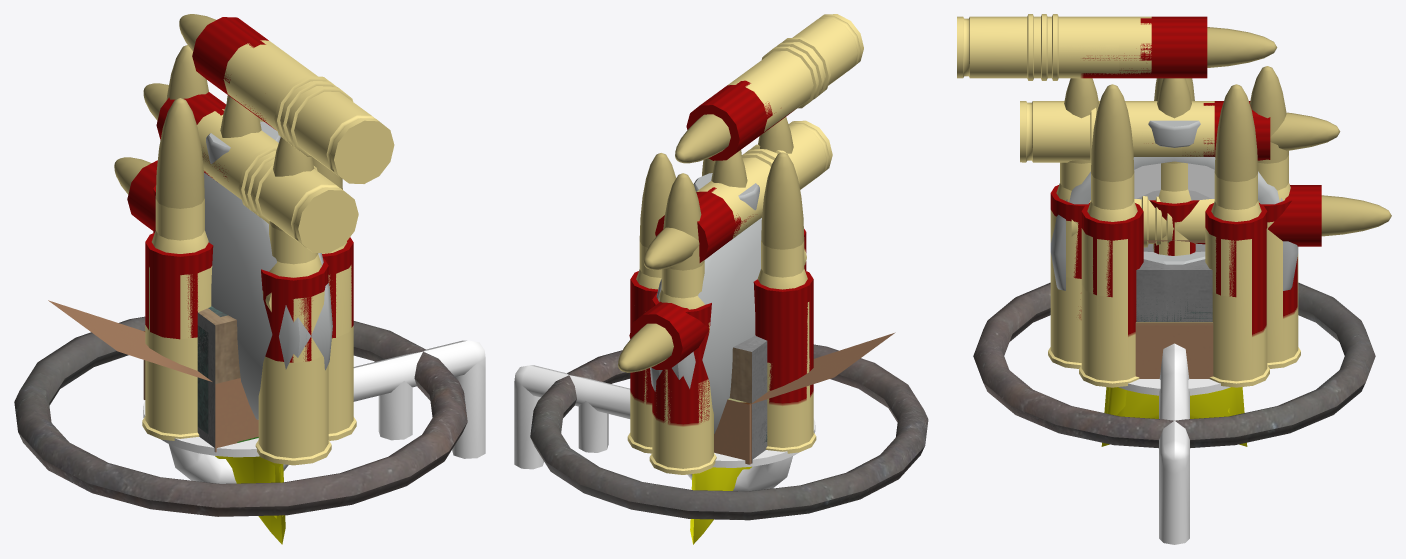
Rendered from GameAssetsPack1.fbx.
3 views of the same model, side by side, from view 1: azimuth 30°, elevation 25°; view 2: azimuth 150°, elevation 25°; view 3: azimuth 270°, elevation 25° (orthographic). The views are drawn at different scales.
Parts seen in each view (by area): view 1: KeyRing, BulletCFloat, StopwatchGlass, BulletCTriple, Key, BulletBTriple, BulletBLine, ShotgunShellFloat, BulletBFloat, ShotgunShellTriple, BulletCLine, BulletAFloat (+11 smaller); view 2: KeyRing, BulletCFloat, ShotgunShellTriple, ShotgunShellFloat, BulletCTriple, StopwatchGlass, Key, ShotgunShellLine, BulletCLine, BulletBFloat, AmmoPack16, BulletAFloat (+6 smaller); view 3: BulletCTriple, BulletCFloat, KeyRing, ShotgunShellFloat, BulletCLine, ShotgunShellTriple, BulletBFloat, StopWatch, Key, BulletBTriple, CrateMetal, AmmoPack16 (+9 smaller).
Boxes of the visible parts, x1,y1,x2,y2 form: KeyRing: (14,316,467,516); BulletCFloat: (114,14,394,311); StopwatchGlass: (204,133,306,419); BulletCTriple: (149,95,351,420); Key: (168,340,485,483); BulletBTriple: (145,325,356,440); BulletBLine: (258,356,331,465); ShotgunShellFloat: (127,17,353,230); BulletBFloat: (199,44,336,217); ShotgunShellTriple: (142,232,356,436); BulletCLine: (166,45,324,444); BulletAFloat: (197,40,328,211); KeyRing: (530,344,928,520); BulletCFloat: (618,14,863,372); ShotgunShellTriple: (627,270,814,451); ShotgunShellFloat: (629,37,830,369); BulletCTriple: (636,150,809,440); StopwatchGlass: (658,178,761,433); Key: (514,365,792,491); ShotgunShellLine: (650,229,806,473); BulletCLine: (656,117,793,461); BulletBFloat: (702,42,824,234); AmmoPack16: (714,332,895,464); BulletAFloat: (696,46,818,238); BulletCTriple: (1081,78,1267,375); BulletCFloat: (957,16,1391,240); KeyRing: (973,282,1375,448); ShotgunShellFloat: (1027,14,1321,247); BulletCLine: (1050,66,1298,357); ShotgunShellTriple: (1079,203,1269,385); BulletBFloat: (1041,14,1214,245); StopWatch: (1050,120,1298,290); Key: (1159,343,1189,544); BulletBTriple: (1080,285,1236,387); CrateMetal: (1136,259,1212,321); AmmoPack16: (1135,322,1213,378).
Bounding box in the file's own units: 3.63 × 3.83 × 3.51.
